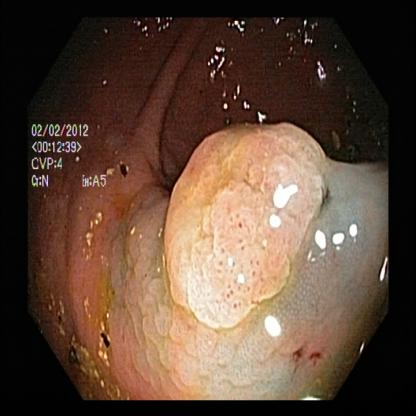Labels: (27, 108, 121, 210)
Polyps: (156, 129, 328, 327)
